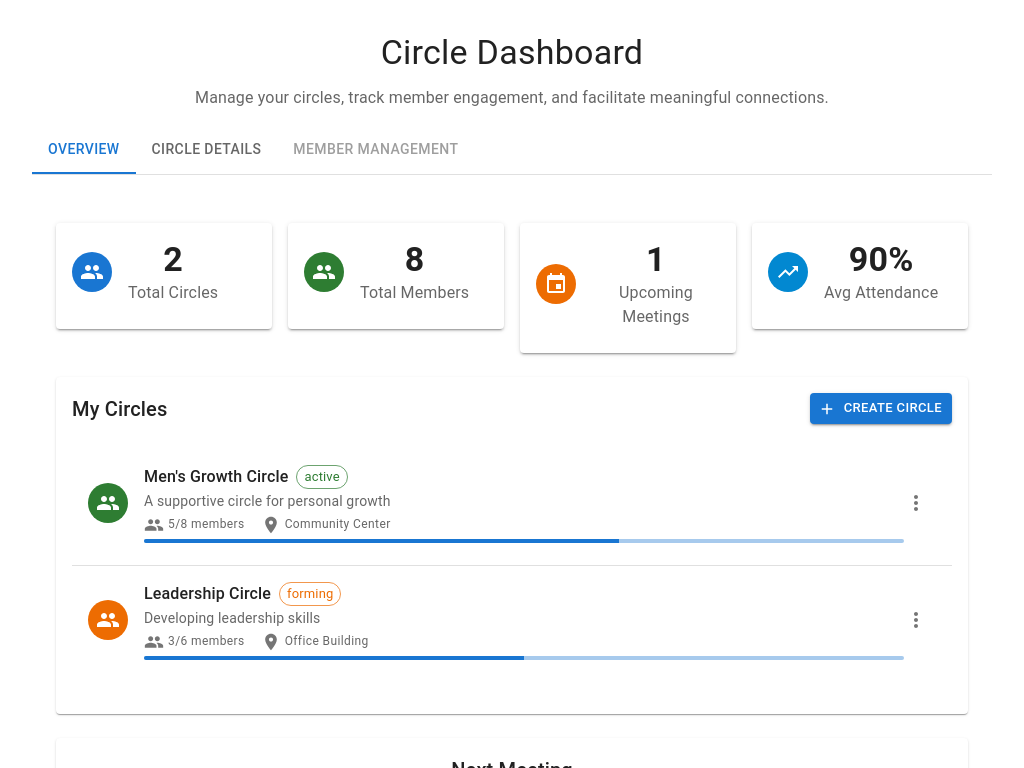
Test: CircleDashboard › Loading States › should show loading state for members when selected circle is loading
Select a circle
Step 1. Click the heading "Men's Growth Circle" → x=216, y=477, box [144, 463, 288, 491]
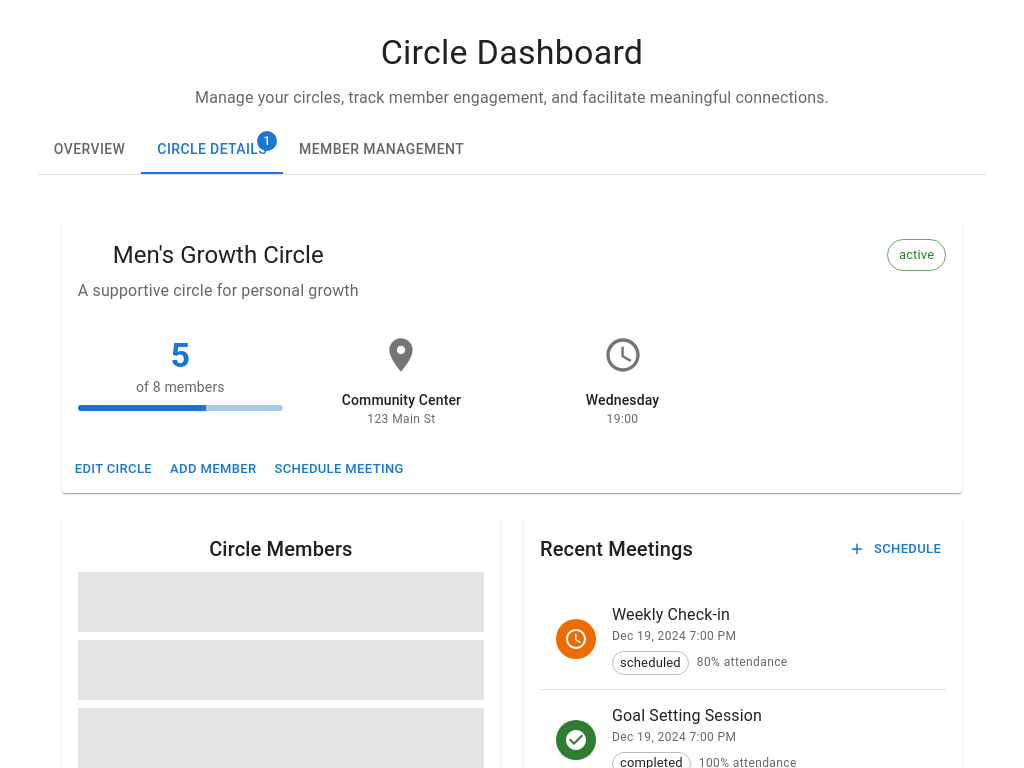
Now the number of elements with test id "skeleton" is 3, box [78, 572, 484, 632]; [78, 640, 484, 700]; [78, 708, 484, 767]
